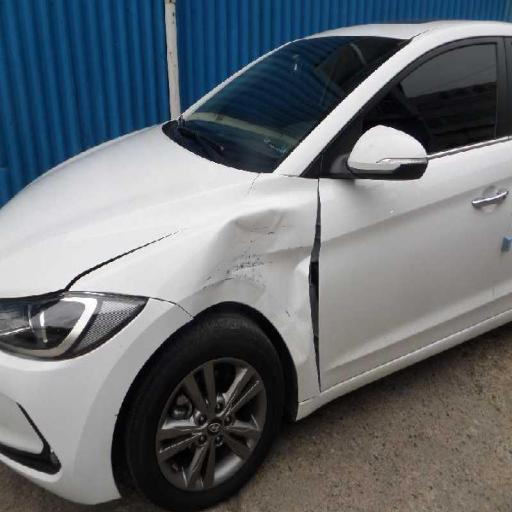broken: (42, 214, 178, 328)
dent: (196, 170, 364, 404)
